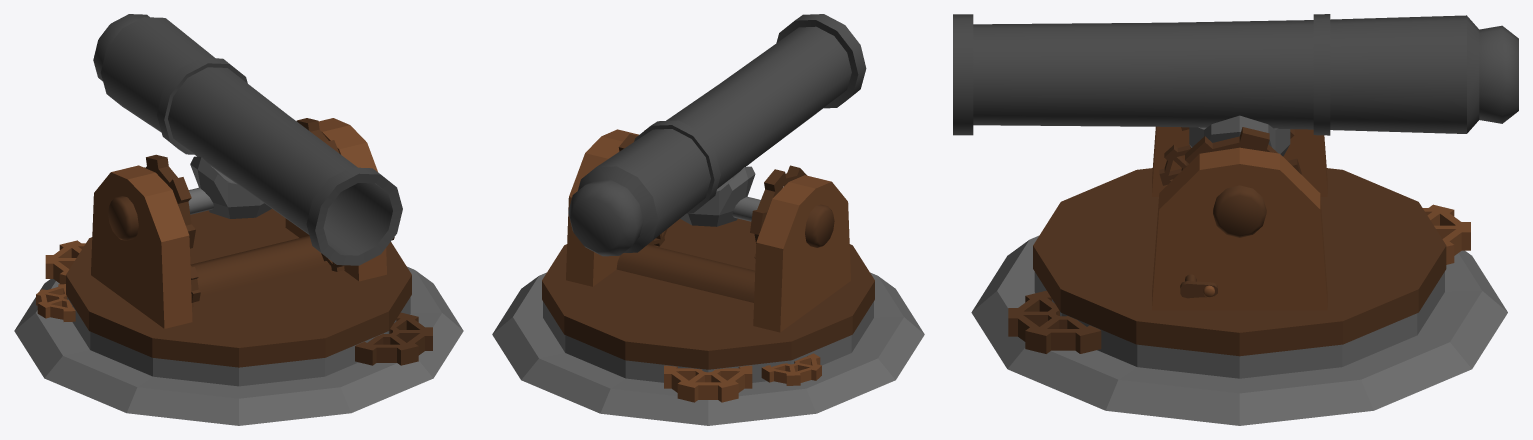
File: Cannon_T1.fbx
3 renders of one model, left to right at view 1: azimuth 30°, elevation 25°; view 2: azimuth 150°, elevation 25°; view 3: azimuth 270°, elevation 25°, orthographic. The views are drawn at different scales.
Parts seen in each view (by area): view 1: CannonBody, CannonTower_Rotator, CannonTower_Base, CannonHolder, TowerRotatorLog, CogWheelBase, CannonRotator, CannonCogWheel, CogWheelBase3, HolderButton, CogWheelBase2, CannonRotatorBeam (+1 smaller); view 2: CannonBody, CannonTower_Rotator, CannonTower_Base, CannonHolder, TowerRotatorLog, CogWheelBase2, CannonRotator, CannonCogWheel, CogWheelBase3, HolderButton, CannonRotatorBeam; view 3: CannonBody, CannonTower_Rotator, CannonTower_Base, CannonHolder, CogWheelBase, HolderButton, CannonRotator, CannonCogWheel, CogWheelBase2, CrankCogWheel.
Boxes of the visible parts, bbox=[...] form: CannonBody: bbox=[93, 14, 402, 265]; CannonTower_Rotator: bbox=[66, 209, 411, 367]; CannonTower_Base: bbox=[14, 266, 463, 425]; CannonHolder: bbox=[91, 118, 386, 328]; TowerRotatorLog: bbox=[190, 235, 329, 295]; CogWheelBase: bbox=[355, 312, 432, 365]; CannonRotator: bbox=[190, 156, 271, 218]; CannonCogWheel: bbox=[144, 118, 339, 248]; CogWheelBase3: bbox=[36, 284, 75, 321]; HolderButton: bbox=[108, 196, 138, 240]; CogWheelBase2: bbox=[45, 240, 85, 284]; CannonRotatorBeam: bbox=[188, 187, 213, 214]; CannonBody: bbox=[568, 14, 866, 256]; CannonTower_Rotator: bbox=[542, 218, 874, 369]; CannonTower_Base: bbox=[492, 272, 924, 425]; CannonHolder: bbox=[566, 129, 850, 332]; TowerRotatorLog: bbox=[616, 244, 755, 302]; CogWheelBase2: bbox=[664, 365, 752, 402]; CannonRotator: bbox=[680, 166, 755, 226]; CannonCogWheel: bbox=[618, 130, 806, 258]; CogWheelBase3: bbox=[761, 353, 821, 385]; HolderButton: bbox=[805, 204, 834, 247]; CannonRotatorBeam: bbox=[732, 196, 760, 221]; CannonBody: bbox=[953, 14, 1518, 135]; CannonTower_Rotator: bbox=[1033, 168, 1446, 356]; CannonTower_Base: bbox=[971, 235, 1507, 425]; CannonHolder: bbox=[1152, 126, 1327, 310]; CogWheelBase: bbox=[1008, 290, 1101, 353]; HolderButton: bbox=[1213, 185, 1266, 237]; CannonRotator: bbox=[1189, 115, 1290, 156]; CannonCogWheel: bbox=[1181, 127, 1301, 174]; CogWheelBase2: bbox=[1423, 204, 1470, 264]; CrankCogWheel: bbox=[1159, 145, 1190, 185].
Bounding box in the file's own units: 160 × 96.39 × 169.
